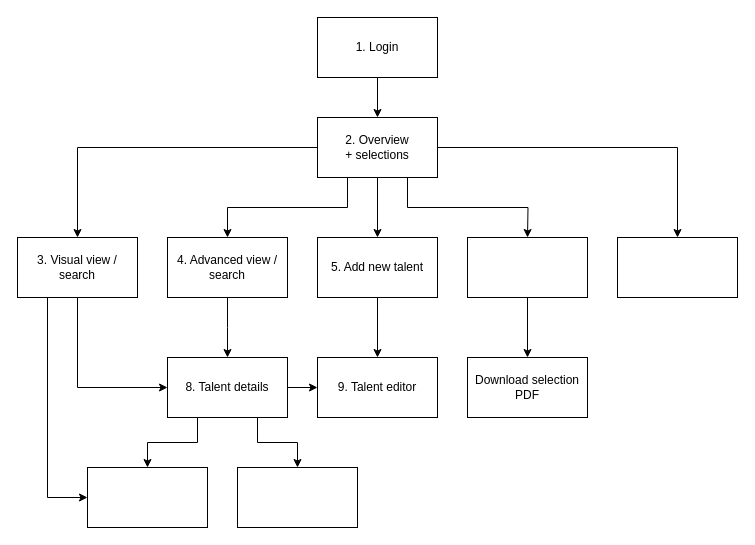
This 755x545 diagram has some shape labels left out. Each missing label, with the box of its shape:
6. Show / edit / delete selection: (466, 236, 588, 298)
7. Show / add / edit / delete users: (616, 236, 738, 298)
Add to selection: (86, 466, 208, 528)
Download talent PDF: (236, 466, 358, 528)
